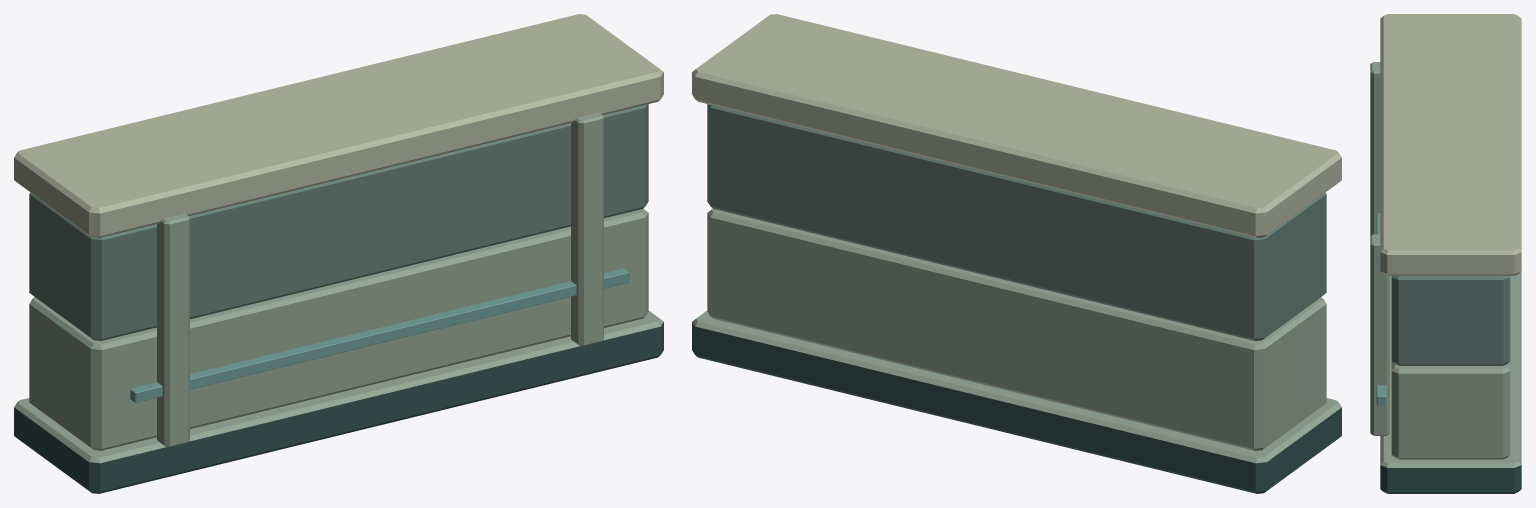
The model's file is wall-straight.glb.
3 views of the same model, side by side, from view 1: azimuth 30°, elevation 25°; view 2: azimuth 150°, elevation 25°; view 3: azimuth 270°, elevation 25° (orthographic). The views are drawn at different scales.
Visible parts, largest first — view 1: wall-straight__body; view 2: wall-straight__body; view 3: wall-straight__body.
Boxes of the visible parts, left/top/right/bottom form: wall-straight__body: left=14, top=14, right=663, bottom=493; wall-straight__body: left=692, top=14, right=1341, bottom=493; wall-straight__body: left=1370, top=14, right=1521, bottom=493.
Size of the model in its own units: 2 by 0.95 by 0.535.
